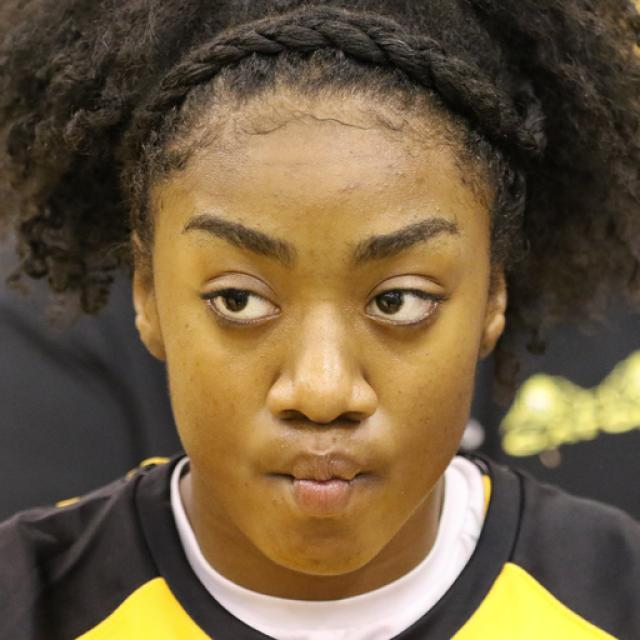surprise: (155, 69, 488, 576)
